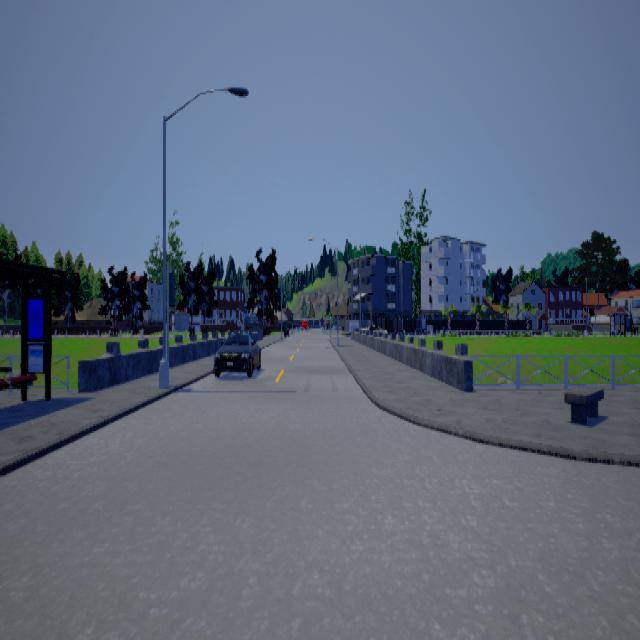vehicle: (212, 332, 260, 376)
